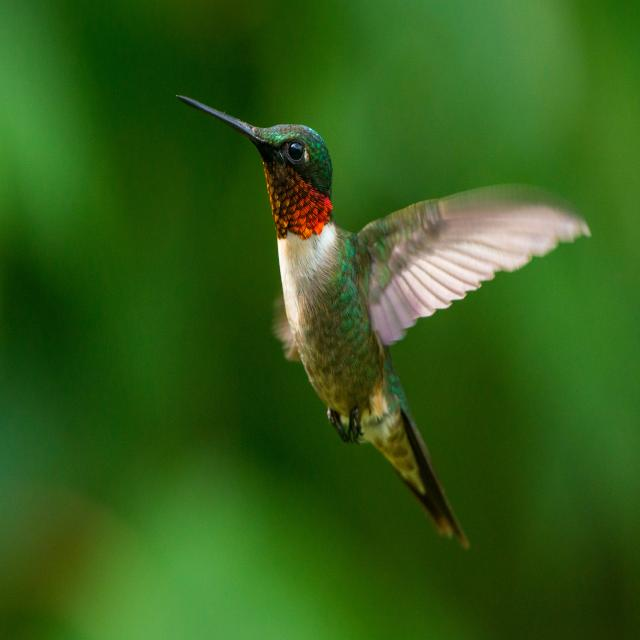Humming Bird: (183, 85, 539, 534)
